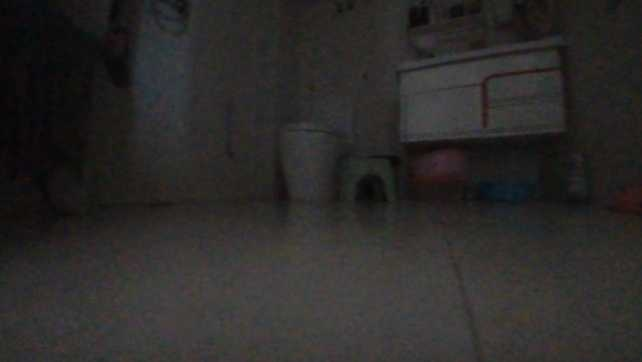toilet: (273, 116, 342, 207)
